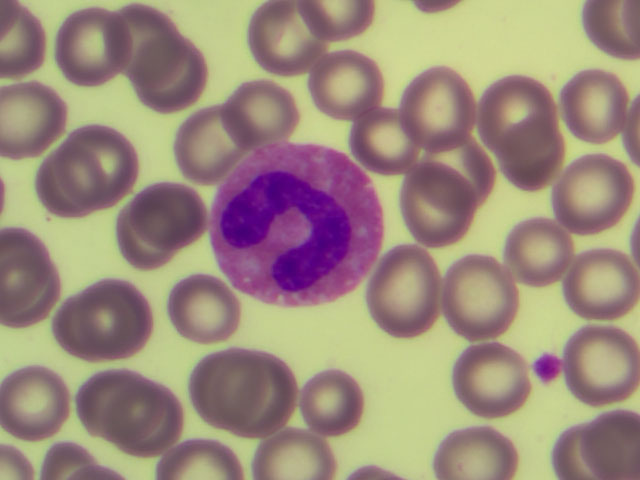Platelets: (531, 351, 567, 381)
RBC: (51, 4, 132, 90), (138, 39, 219, 125), (60, 122, 141, 208), (134, 173, 215, 259), (55, 282, 136, 368), (157, 268, 238, 354), (187, 344, 268, 430), (229, 350, 310, 436), (302, 360, 383, 446), (120, 378, 201, 464), (65, 364, 146, 450), (3, 353, 84, 439), (441, 334, 522, 420), (433, 258, 514, 344), (366, 251, 447, 337), (392, 167, 473, 253), (413, 127, 494, 213), (400, 63, 481, 149), (351, 94, 432, 180), (301, 43, 382, 129), (251, 1, 332, 87), (221, 68, 302, 154), (175, 104, 256, 190), (470, 68, 551, 154), (487, 114, 568, 200), (549, 152, 630, 238), (512, 198, 593, 284), (559, 250, 640, 336), (559, 318, 640, 404), (554, 56, 635, 142), (107, 1, 188, 86)
WBC: (215, 140, 387, 309)
